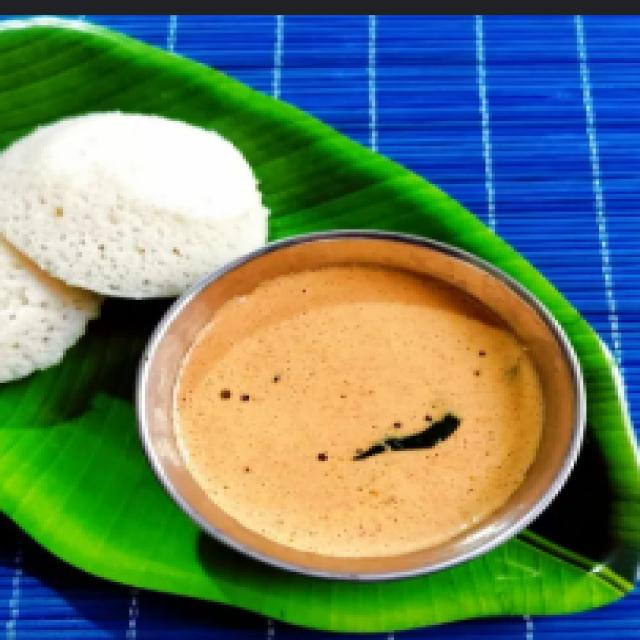peanut chutney: (217, 270, 554, 616)
